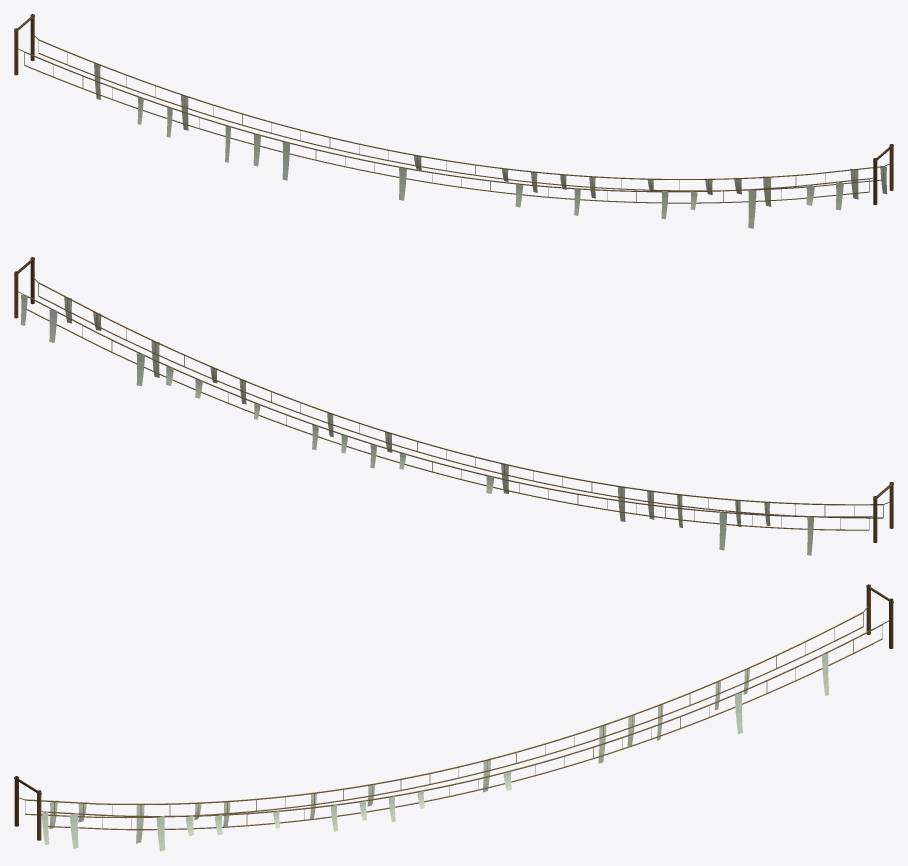
The model's file is SM_Bridge_15_16_Rails.fbx.
The picture shows the model from 3 angles, top to bottom: view 1: azimuth 30°, elevation 25°; view 2: azimuth 210°, elevation 25°; view 3: azimuth 270°, elevation 25°; orthographic projection. The views are drawn at different scales.
Visible parts, largest first — view 1: SM_Bridge_15_16_Rails; view 2: SM_Bridge_15_16_Rails; view 3: SM_Bridge_15_16_Rails.
Part boxes in pixels (x1,y1,x2,y2): SM_Bridge_15_16_Rails: [14, 14, 893, 228]; SM_Bridge_15_16_Rails: [14, 257, 893, 555]; SM_Bridge_15_16_Rails: [14, 584, 893, 851].
Size of the model in its own units: 42.75 by 11.77 by 61.29.
